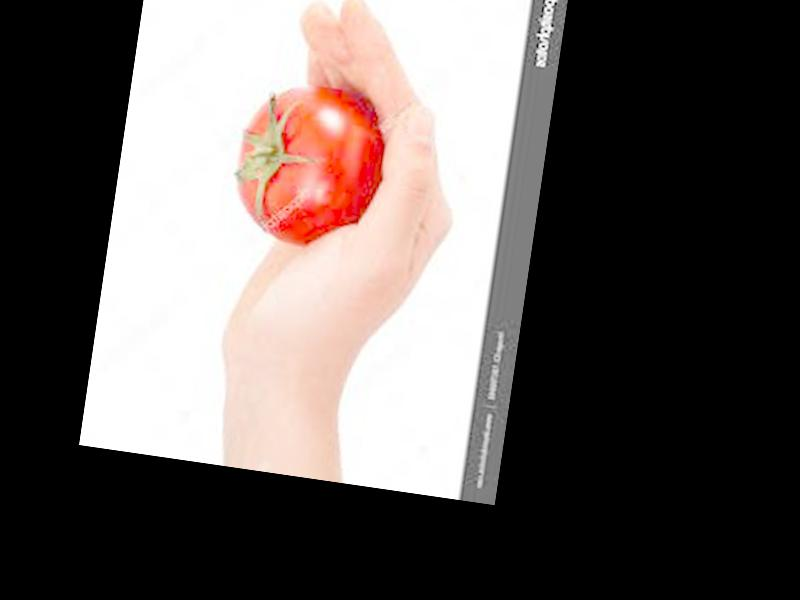Tomato: (228, 80, 390, 256)
